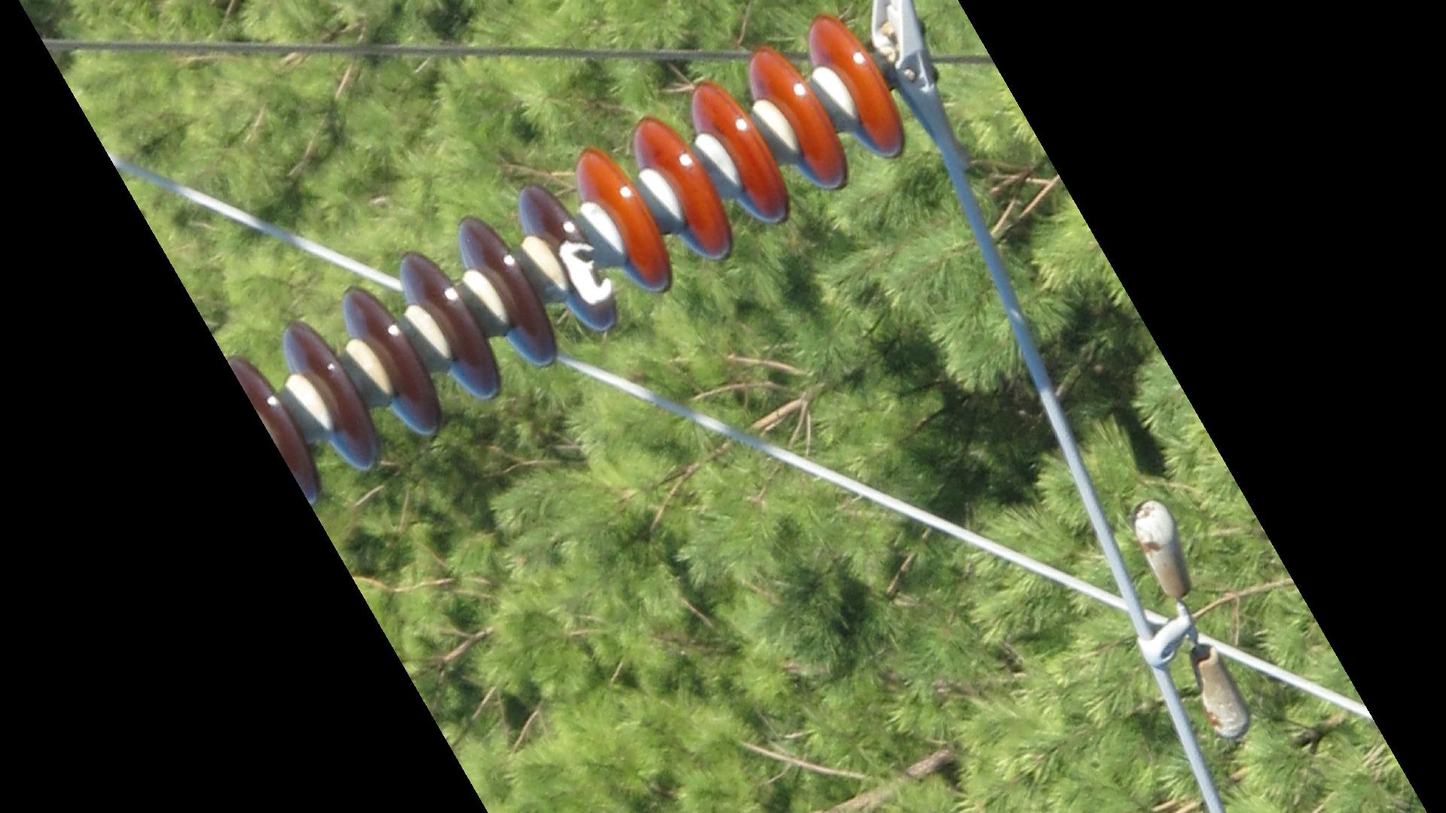insulator: (225, 5, 914, 512)
insulator_breakage: (551, 232, 621, 316)
